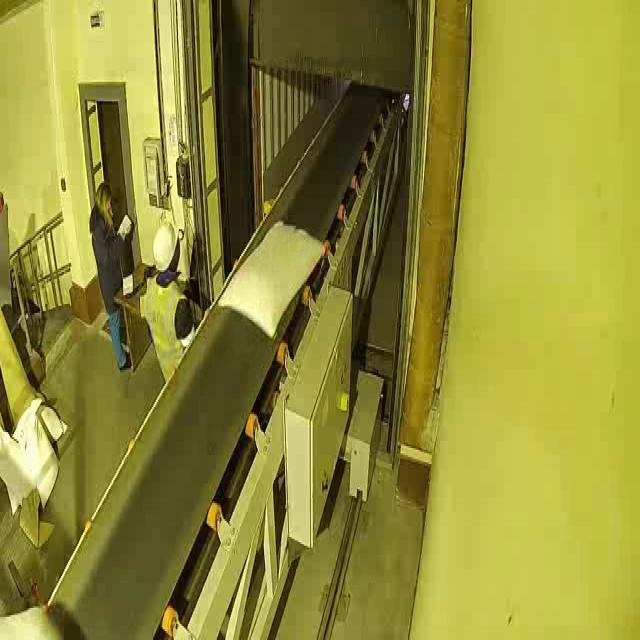bag: (216, 215, 325, 340), (0, 601, 66, 636)
